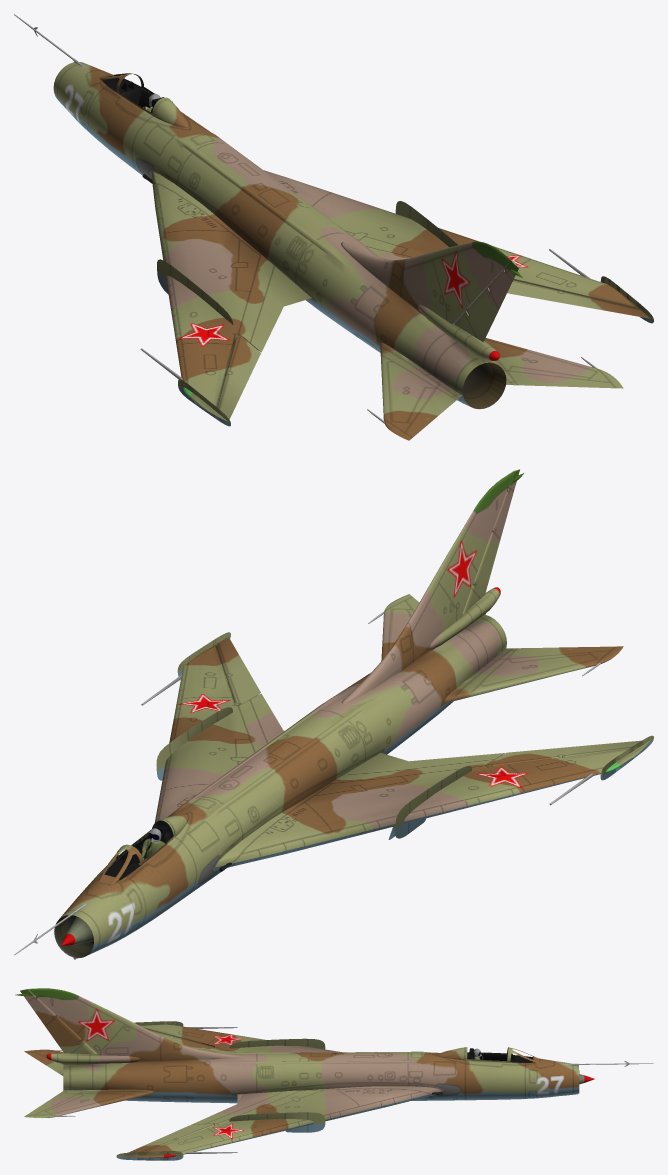
The picture shows the model from 3 angles, top to bottom: view 1: azimuth 30°, elevation 25°; view 2: azimuth 150°, elevation 25°; view 3: azimuth 270°, elevation 25°; orthographic projection. The views are drawn at different scales.
Parts seen in each view (by area): view 1: body|VIFS58-FACES, body|VIFS44-FACES, body|VIFS108-FACES, body|VIFS56-FACES, body|VIFS12-FACES, body|VIFS112-FACES, body|VIFS55-FACES, body|VIFS41-FACES, body|VIFS83-FACES, body|VIFS111-FACES, body|VIFS57-FACES, body|VIFS38-FACES (+2 smaller); view 2: body|VIFS58-FACES, body|VIFS44-FACES, body|VIFS108-FACES, body|VIFS56-FACES, body|VIFS12-FACES, body|VIFS55-FACES, body|VIFS111-FACES, body|VIFS41-FACES, body|VIFS112-FACES, body|VIFS38-FACES, body|VIFS57-FACES, body|VIFS35-FACES (+2 smaller); view 3: body|VIFS58-FACES, body|VIFS108-FACES, body|VIFS56-FACES, body|VIFS44-FACES, body|VIFS112-FACES, body|VIFS55-FACES, body|VIFS116-FACES, body|VIFS57-FACES, body|VIFS38-FACES, body|VIFS111-FACES, body|VIFS109-FACES, body|VIFS12-FACES (+4 smaller).
Part boxes in pixels (x1=…): body|VIFS58-FACES: x1=53, y1=62, x2=506, y2=409; body|VIFS44-FACES: x1=151, y1=172, x2=311, y2=421; body|VIFS108-FACES: x1=263, y1=170, x2=650, y2=318; body|VIFS56-FACES: x1=341, y1=241, x2=510, y2=323; body|VIFS12-FACES: x1=380, y1=342, x2=461, y2=440; body|VIFS112-FACES: x1=484, y1=338, x2=623, y2=388; body|VIFS55-FACES: x1=454, y1=260, x2=518, y2=342; body|VIFS41-FACES: x1=217, y1=337, x2=260, y2=419; body|VIFS83-FACES: x1=462, y1=362, x2=506, y2=408; body|VIFS111-FACES: x1=507, y1=280, x2=649, y2=318; body|VIFS57-FACES: x1=417, y1=304, x2=496, y2=362; body|VIFS38-FACES: x1=157, y1=259, x2=233, y2=324; body|VIFS58-FACES: x1=54, y1=615, x2=506, y2=958; body|VIFS44-FACES: x1=215, y1=740, x2=650, y2=867; body|VIFS108-FACES: x1=154, y1=637, x2=284, y2=824; body|VIFS56-FACES: x1=341, y1=472, x2=512, y2=703; body|VIFS12-FACES: x1=444, y1=646, x2=623, y2=702; body|VIFS55-FACES: x1=462, y1=469, x2=519, y2=613; body|VIFS111-FACES: x1=216, y1=637, x2=260, y2=704; body|VIFS41-FACES: x1=488, y1=740, x2=641, y2=765; body|VIFS112-FACES: x1=381, y1=594, x2=419, y2=660; body|VIFS38-FACES: x1=395, y1=765, x2=471, y2=838; body|VIFS57-FACES: x1=429, y1=588, x2=499, y2=649; body|VIFS35-FACES: x1=215, y1=759, x2=630, y2=870; body|VIFS58-FACES: x1=63, y1=1051, x2=579, y2=1103; body|VIFS108-FACES: x1=121, y1=1086, x2=441, y2=1157; body|VIFS56-FACES: x1=29, y1=988, x2=241, y2=1062; body|VIFS44-FACES: x1=140, y1=1024, x2=341, y2=1053; body|VIFS112-FACES: x1=24, y1=1089, x2=154, y2=1117; body|VIFS55-FACES: x1=20, y1=989, x2=96, y2=1054; body|VIFS116-FACES: x1=229, y1=1112, x2=325, y2=1132; body|VIFS57-FACES: x1=51, y1=1053, x2=139, y2=1065; body|VIFS38-FACES: x1=229, y1=1038, x2=325, y2=1049; body|VIFS111-FACES: x1=128, y1=1123, x2=213, y2=1152; body|VIFS109-FACES: x1=151, y1=1091, x2=441, y2=1157; body|VIFS12-FACES: x1=24, y1=1049, x2=63, y2=1075.
Bounding box in the file's own units: 8.22 × 3.35 × 16.8.
Materials: 79 (48 with a texture image).
